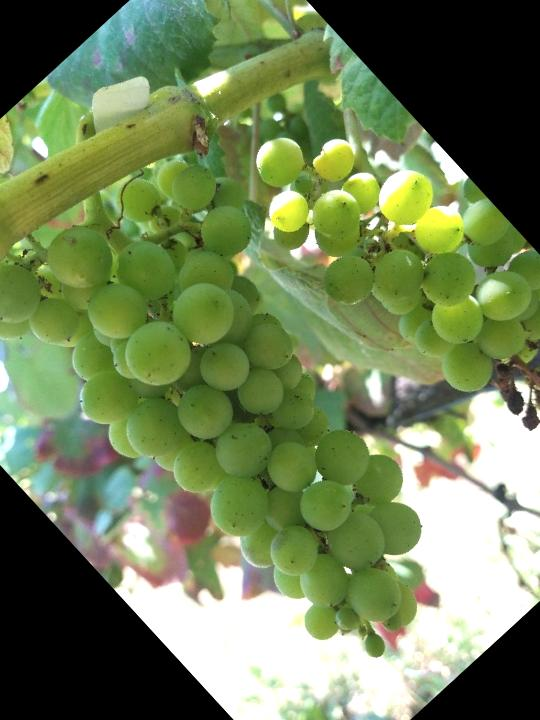grape: (0, 98, 540, 720), (222, 63, 540, 509)
